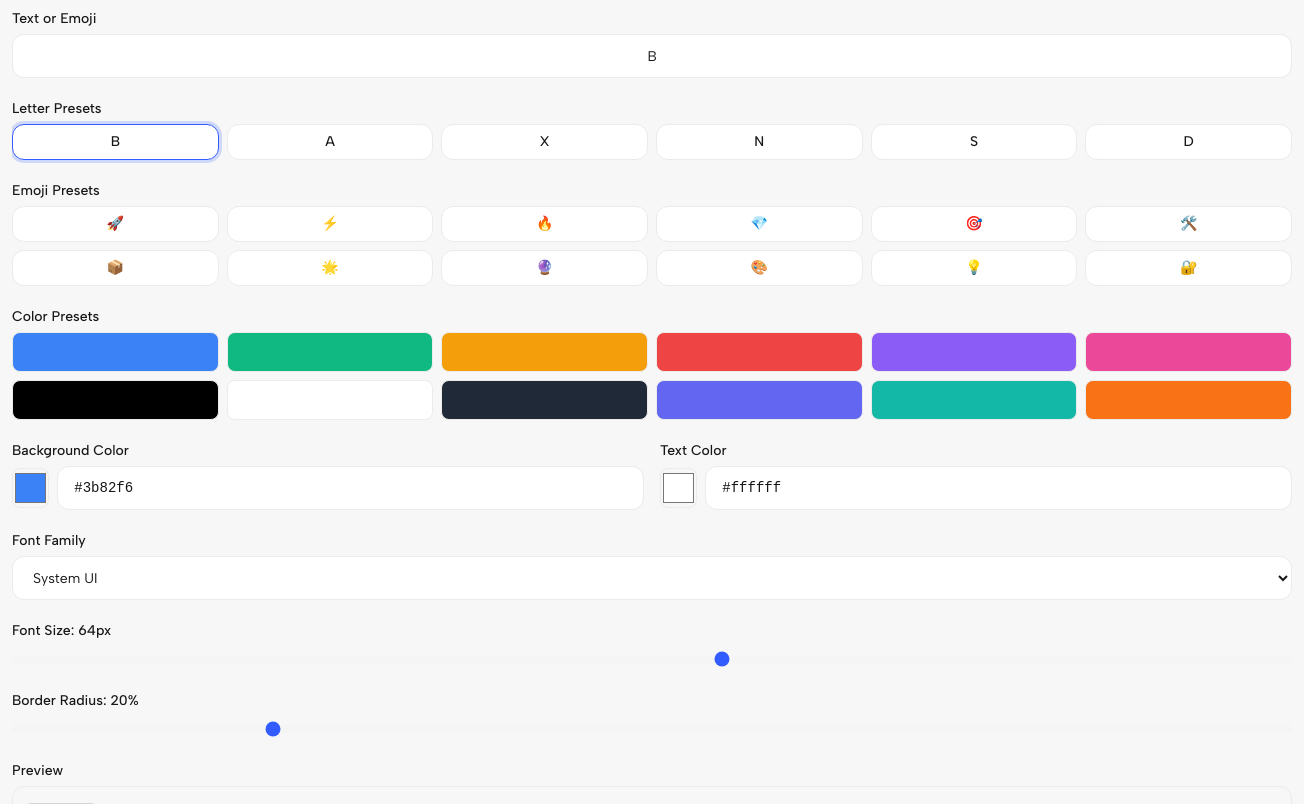
Test: FaviconGeneratorTool › changes text when letter preset is clicked
The width and height of the screenshot is (1304, 804).
Click the button "A" at (330, 142), box [227,124,433,160]
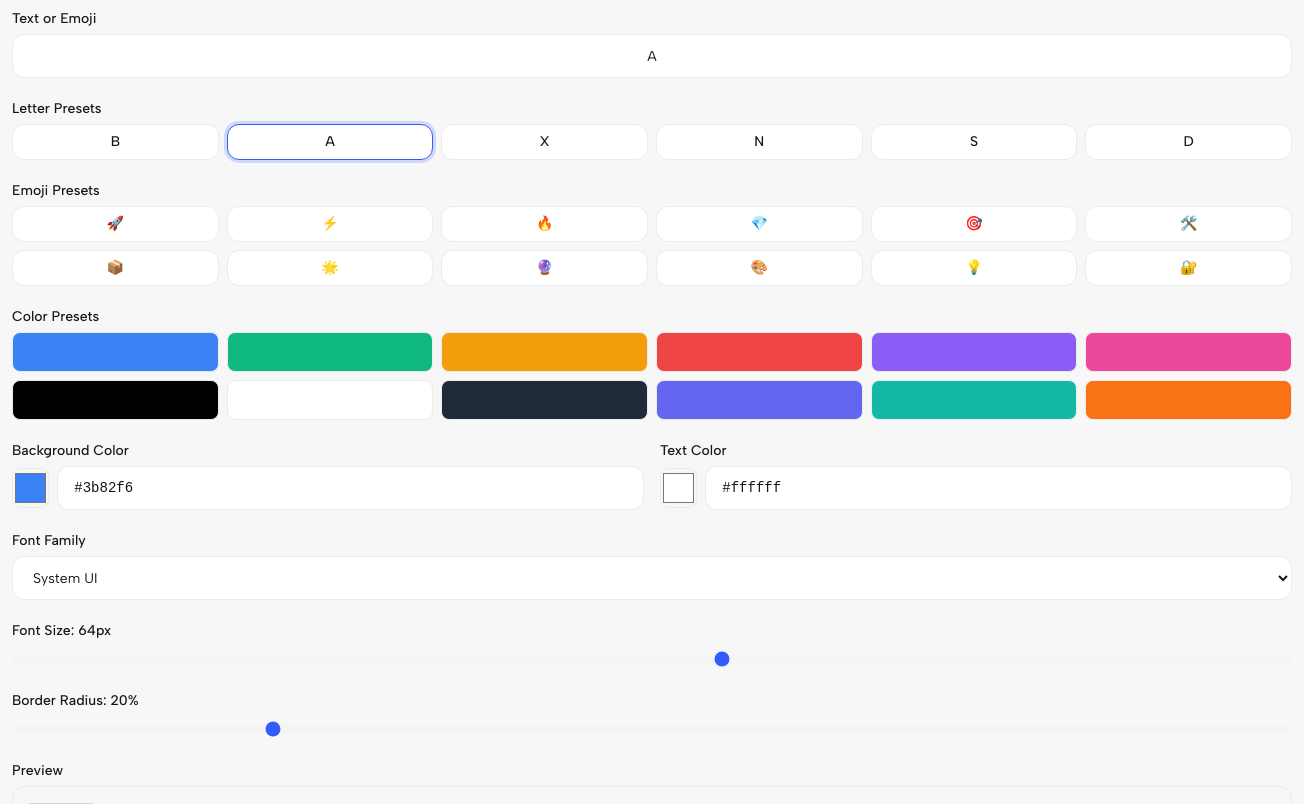
Expected: the field with placeholder "B or 🚀" below "Text or Emoji" holds "A", [12,34,1292,78]
